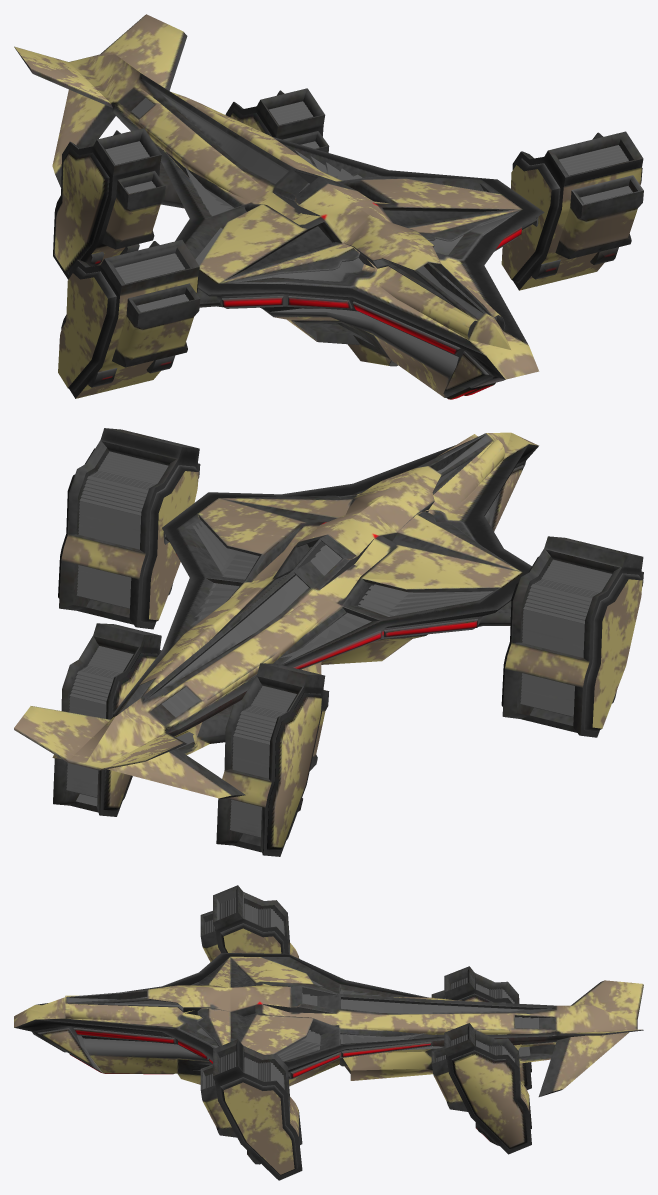
Rendered from Dragonfly.glb.
The picture shows the model from 3 angles, top to bottom: view 1: azimuth 30°, elevation 25°; view 2: azimuth 150°, elevation 25°; view 3: azimuth 270°, elevation 25°; orthographic projection. The views are drawn at different scales.
Visible parts, largest first — view 1: Dragnonfly_Baked; view 2: Dragnonfly_Baked; view 3: Dragnonfly_Baked.
Boxes of the visible parts, x1,y1,x2,y2 form: Dragnonfly_Baked: (14, 14, 643, 399); Dragnonfly_Baked: (14, 428, 643, 856); Dragnonfly_Baked: (14, 885, 643, 1180).
Bounding box in the file's own units: 13.09 × 4.69 × 18.79.
1 material, 1 textured.
